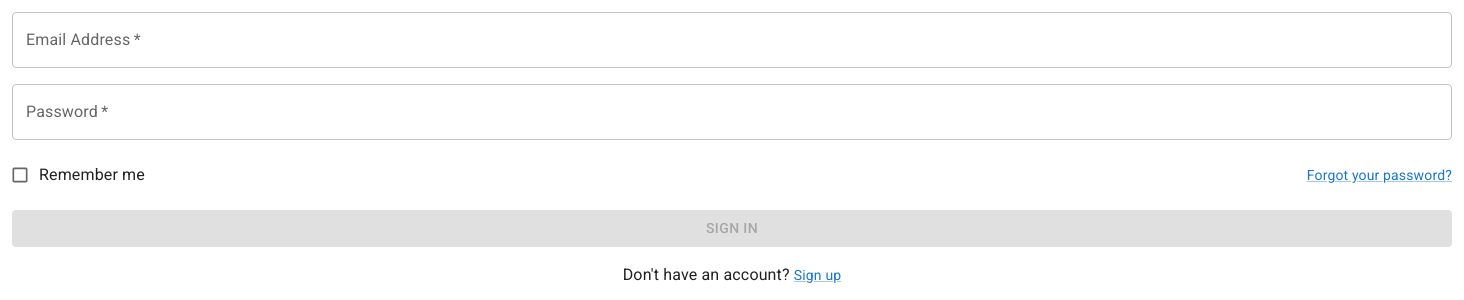
Test: LoginForm › disables submit when email or password is empty
Check: the button "Sign In" is disabled, box [12,210,1452,246]
Type "a@b.com" into the field with placeholder "your@email.com" at (732, 40), box [12,12,1452,68]
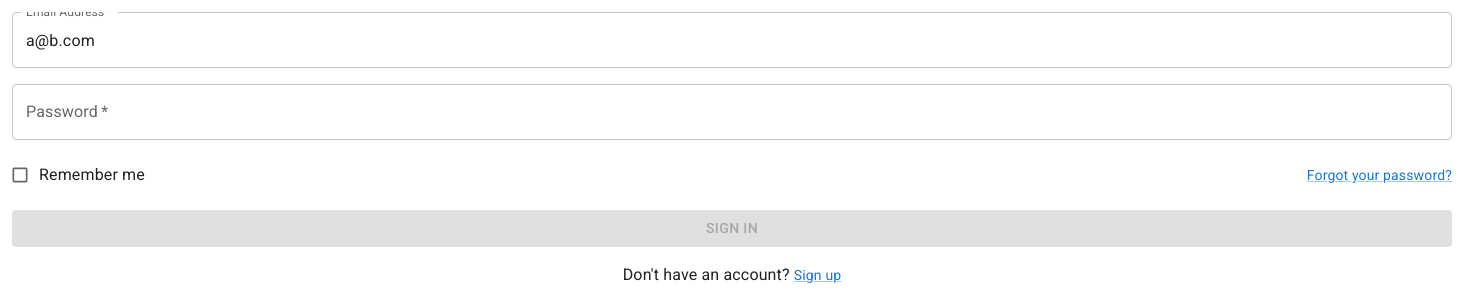
Check: the button "Sign In" is disabled, box [12,210,1452,246]
Type "pass" into the password field with placeholder "••••••" at (732, 112), box [12,84,1452,140]
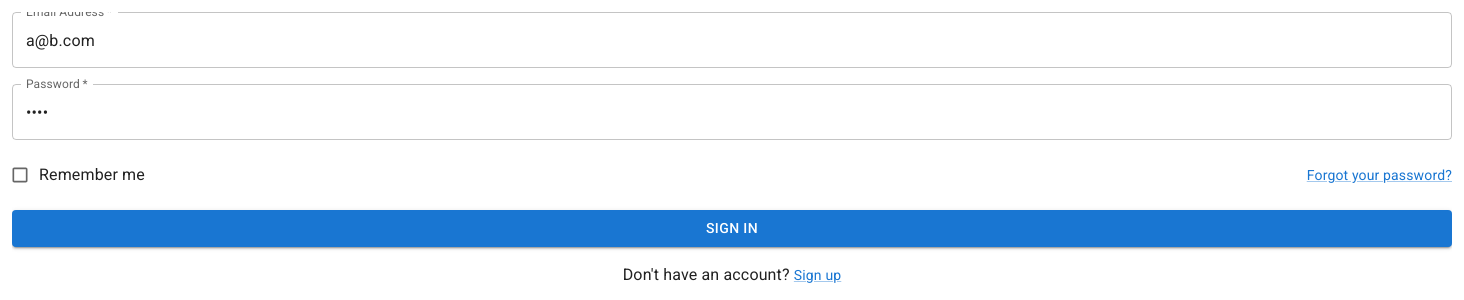
Check: the button "Sign In" is enabled, box [12,210,1452,246]
